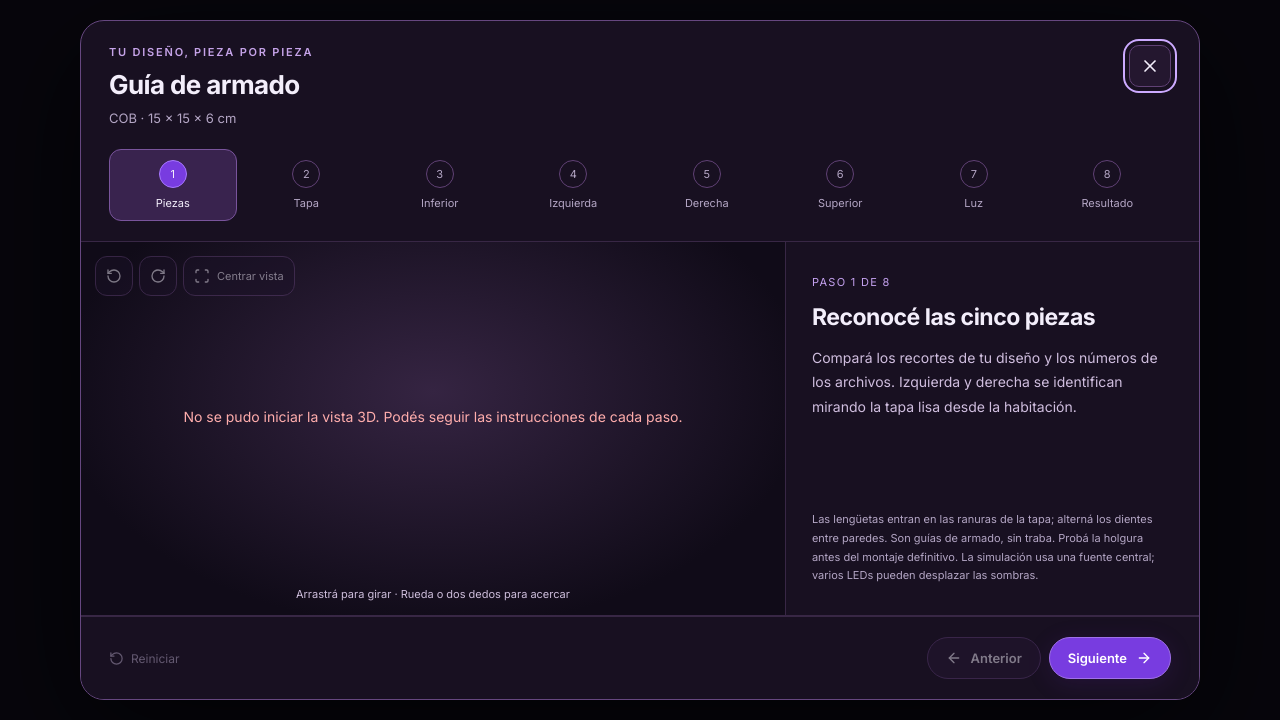
Test: la guía COB detalla cortes, extremos, conexión y limitación óptica
The image size is (1280, 720).
Click the button with aria-label "Paso 7: Ubicá la luz en el interior": (974, 185) [910,149,1038,221]
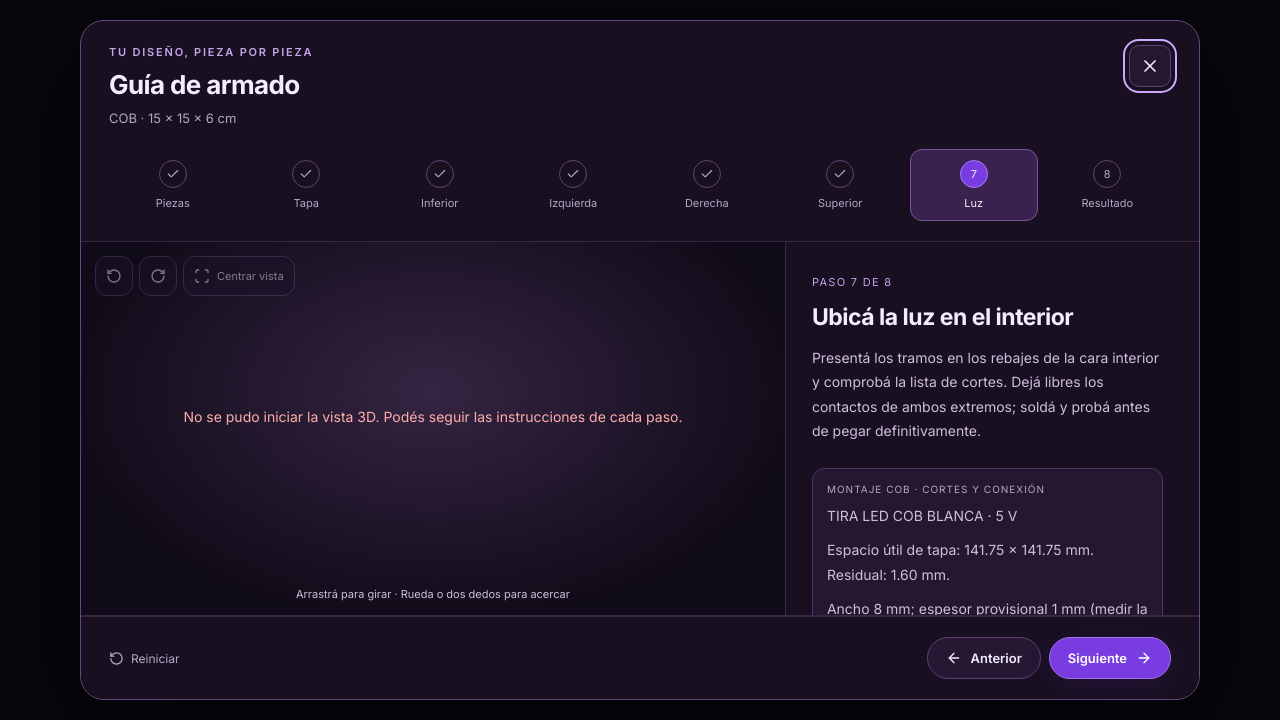
Click the button with aria-label "Paso 2: Empezá por la tapa frontal": (306, 185) [242,149,370,221]
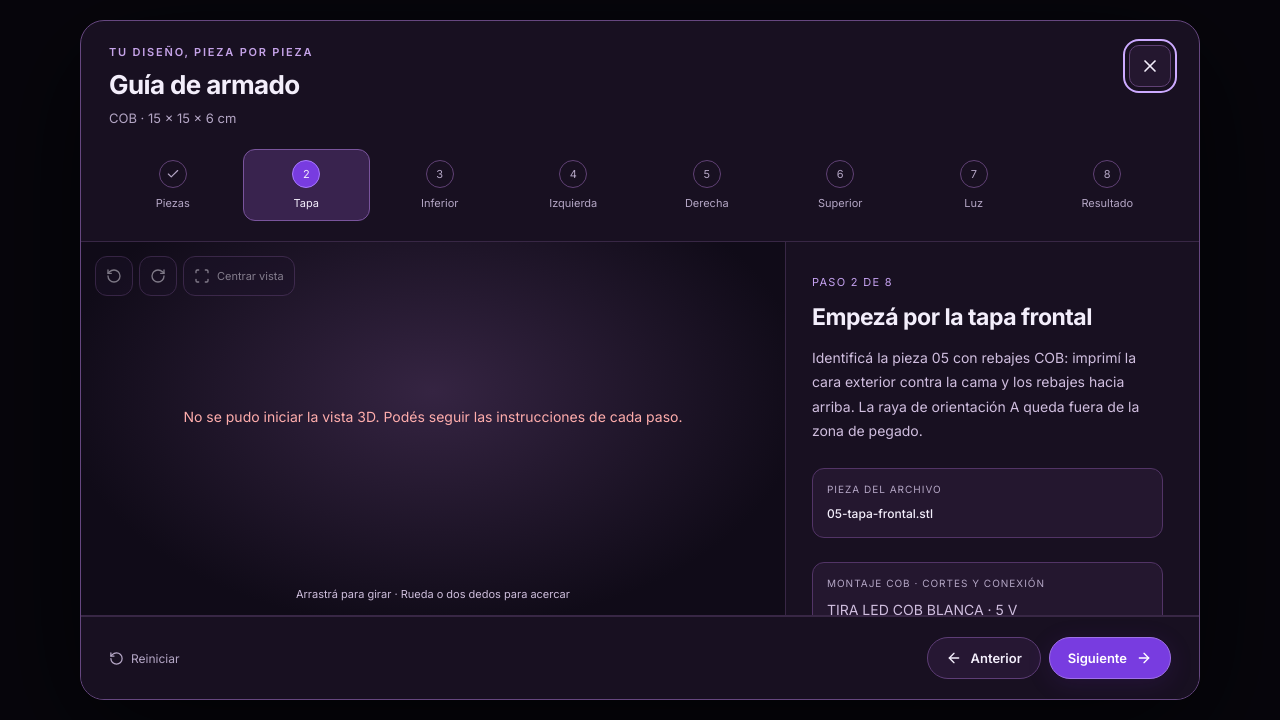
Now the text "Identificá la pieza 05 con rebajes COB" is shown, box [812,348,1139,439]
